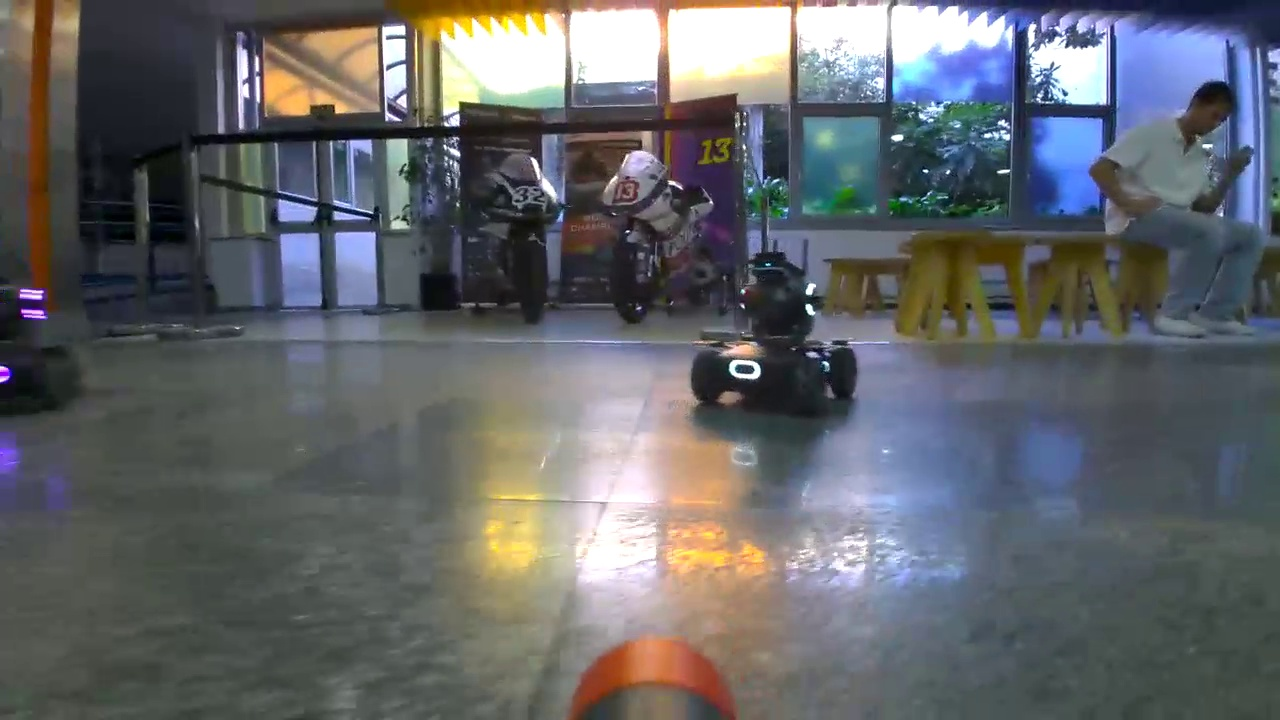robot: (688, 245, 862, 425), (1, 290, 82, 420)
